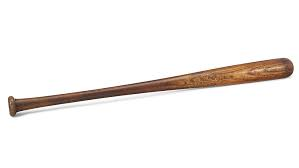bat: (4, 57, 297, 118)
